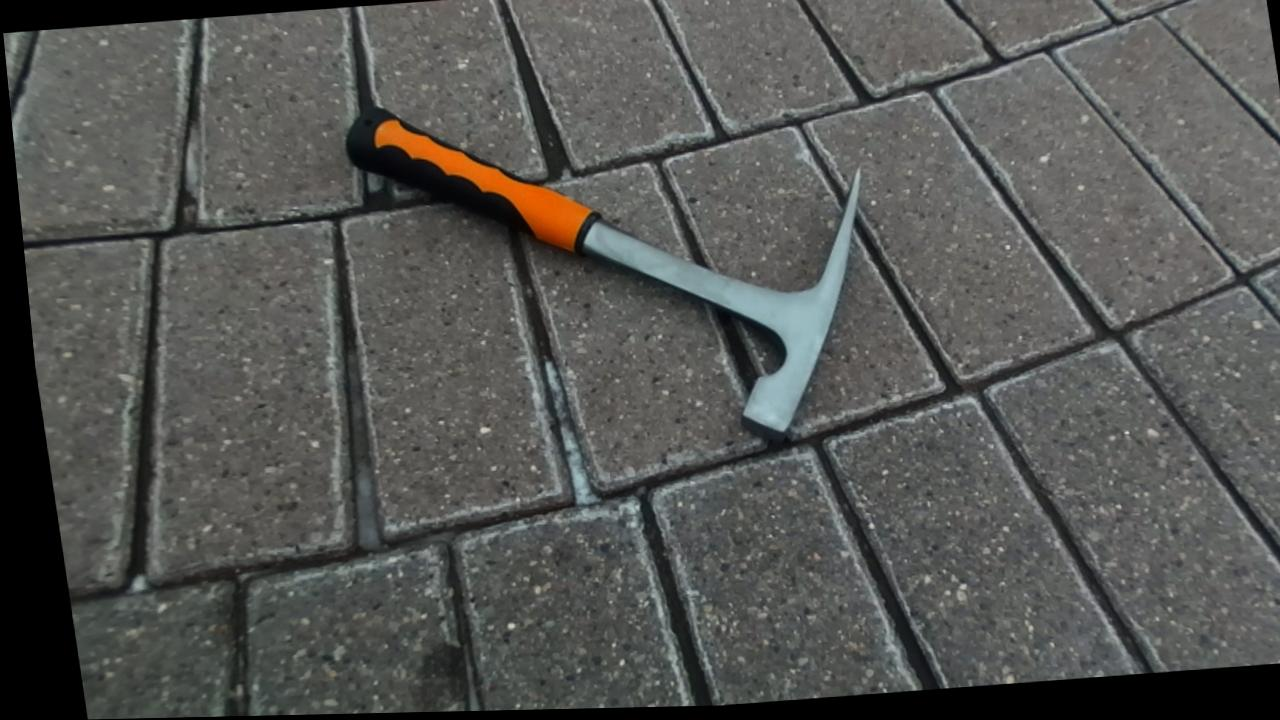pick: (345, 108, 859, 438)
